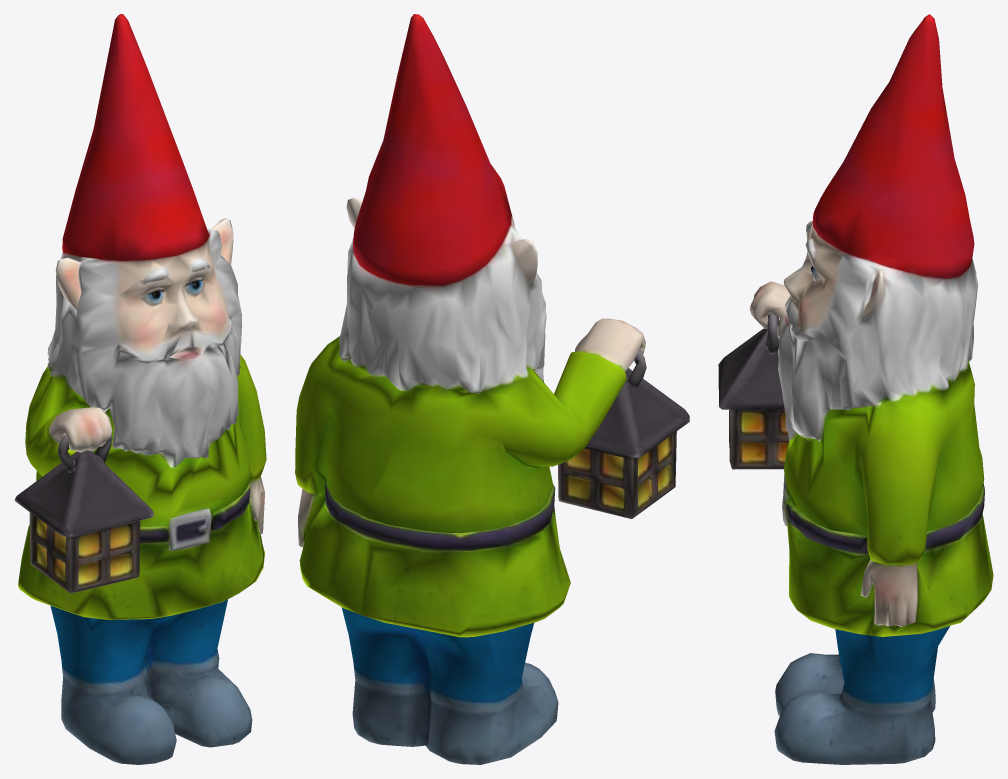
Rendered from garden_gnome.glb.
3 renders of one model, left to right at view 1: azimuth 30°, elevation 25°; view 2: azimuth 150°, elevation 25°; view 3: azimuth 270°, elevation 25°, orthographic. The views are drawn at different scales.
Parts seen in each view (by area): view 1: garden_gnome; view 2: garden_gnome; view 3: garden_gnome.
Part boxes in pixels (x1,y1,x2,y2): garden_gnome: [14, 14, 266, 764]; garden_gnome: [295, 14, 689, 764]; garden_gnome: [718, 14, 993, 764].
Size of the model in its own units: 0.2574 by 0.5985 by 0.2092.
1 material, 1 textured.
